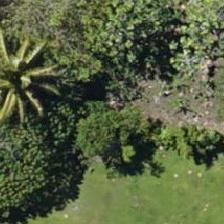coconut_tree: (0, 32, 55, 122)
